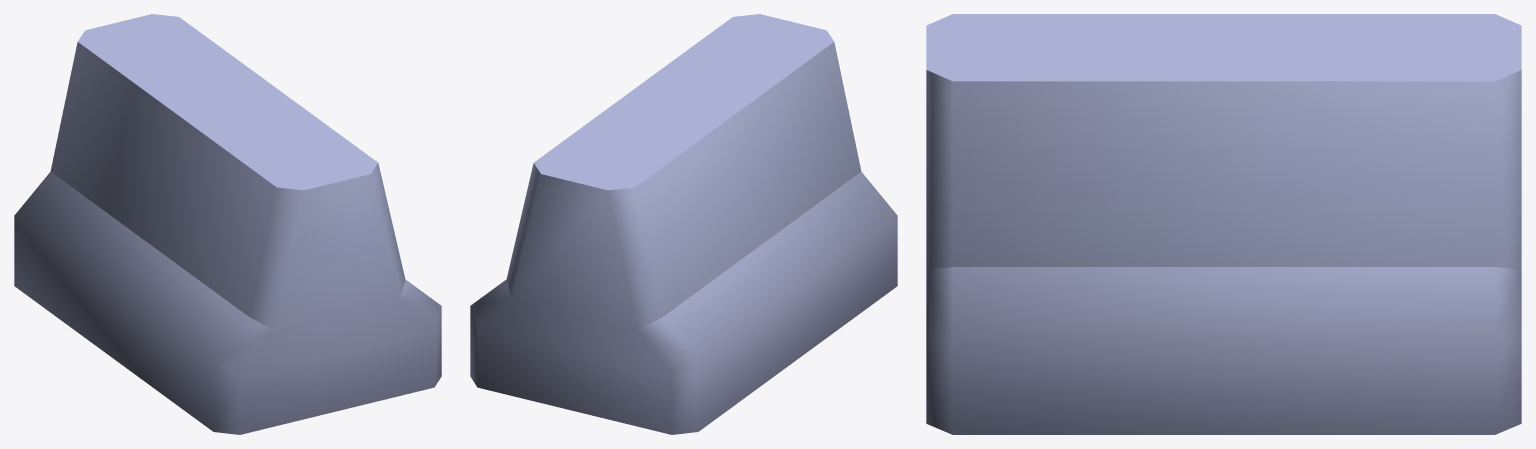
Rendered from nc_road_barrier.glb.
3 renders of one model, left to right at view 1: azimuth 30°, elevation 25°; view 2: azimuth 150°, elevation 25°; view 3: azimuth 270°, elevation 25°, orthographic. The views are drawn at different scales.
Visible parts, largest first — view 1: construction-barrier; view 2: construction-barrier; view 3: construction-barrier.
Part boxes in pixels (left/top/right/bottom): construction-barrier: left=14, top=14, right=441, bottom=434; construction-barrier: left=470, top=14, right=897, bottom=434; construction-barrier: left=926, top=14, right=1521, bottom=434.
Size of the model in its own units: 1.15 by 1.1 by 1.9.
1 material, 1 textured.
